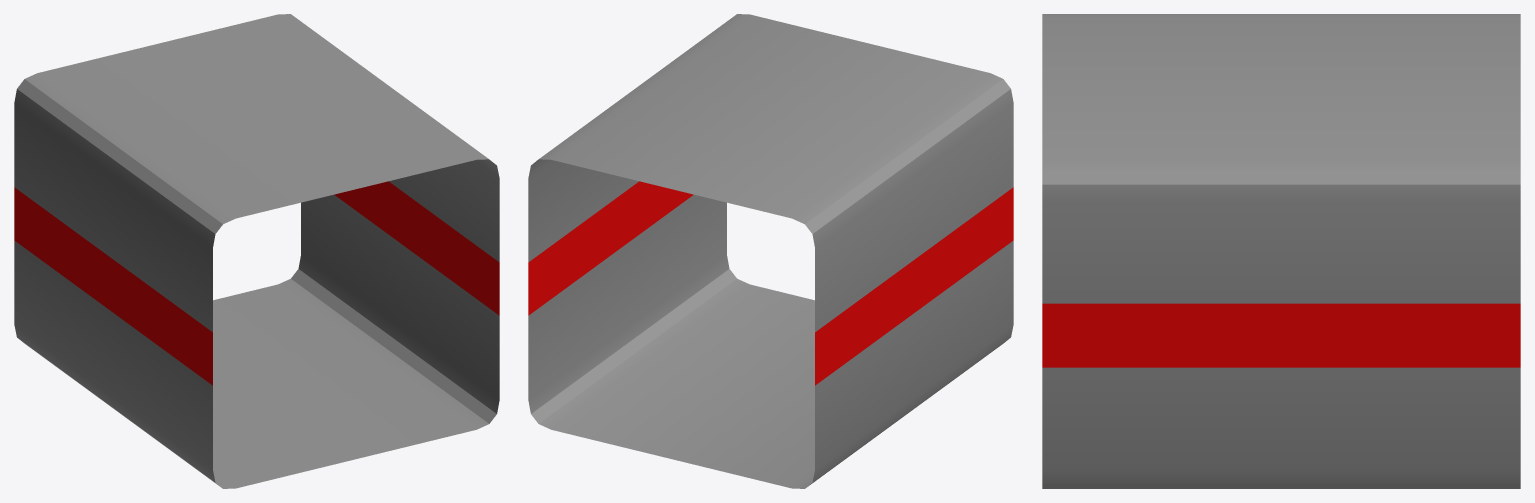
The model's file is HallWay_Straight_001.FBX.
The picture shows the model from 3 angles, left to right: view 1: azimuth 30°, elevation 25°; view 2: azimuth 150°, elevation 25°; view 3: azimuth 270°, elevation 25°; orthographic projection. The views are drawn at different scales.
Parts seen in each view (by area): view 1: HallWay_Straight_001; view 2: HallWay_Straight_001; view 3: HallWay_Straight_001.
Part boxes in pixels (x1,y1,x2,y2): HallWay_Straight_001: (14, 14, 499, 488); HallWay_Straight_001: (528, 14, 1013, 488); HallWay_Straight_001: (1042, 14, 1520, 488).
Size of the model in its own units: 2.5 by 2.25 by 3.
